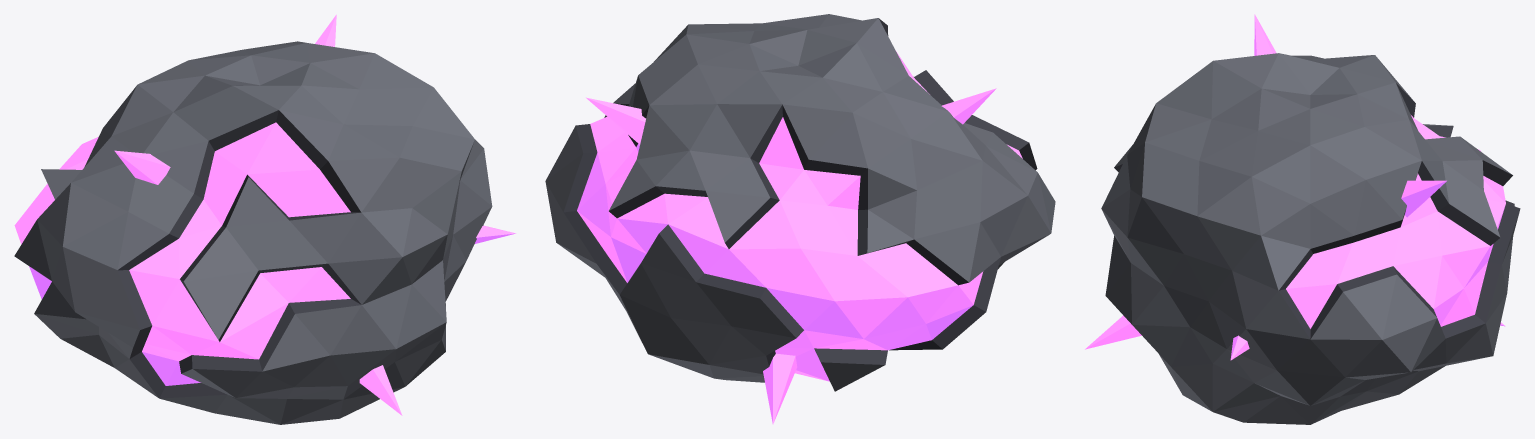
File: asteroid.glb
3 views of the same model, side by side, from view 1: azimuth 30°, elevation 25°; view 2: azimuth 150°, elevation 25°; view 3: azimuth 270°, elevation 25° (orthographic). The views are drawn at different scales.
Parts seen in each view (by area): view 1: asteroid; view 2: asteroid; view 3: asteroid.
Boxes of the visible parts, left/top/right/bottom form: asteroid: left=14, top=14, right=516, bottom=424; asteroid: left=545, top=14, right=1055, bottom=424; asteroid: left=1085, top=14, right=1520, bottom=424.
Size of the model in its own units: 1 by 0.7155 by 0.8794.
